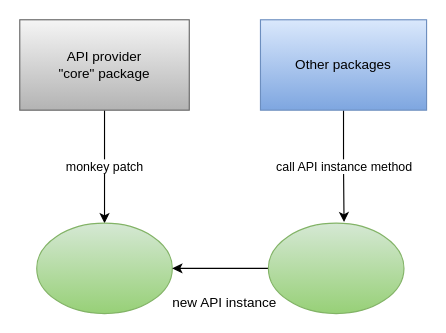
Image size: 446x333. Some labels were removed from this diagram. The shapes that lost their labels are listed below. From the top down, each one's box as (x1, y1, x2, y2) in pixels, then its label:
(36, 222, 172, 314): API prototype
(267, 222, 404, 314): API instance
